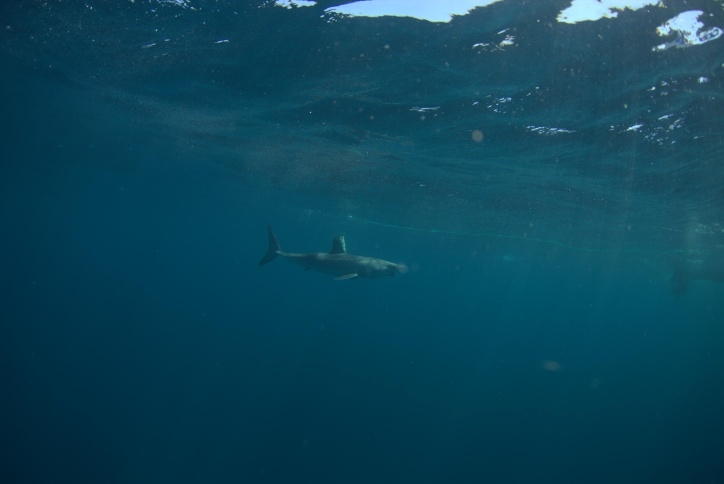Mako: (234, 215, 409, 288)
